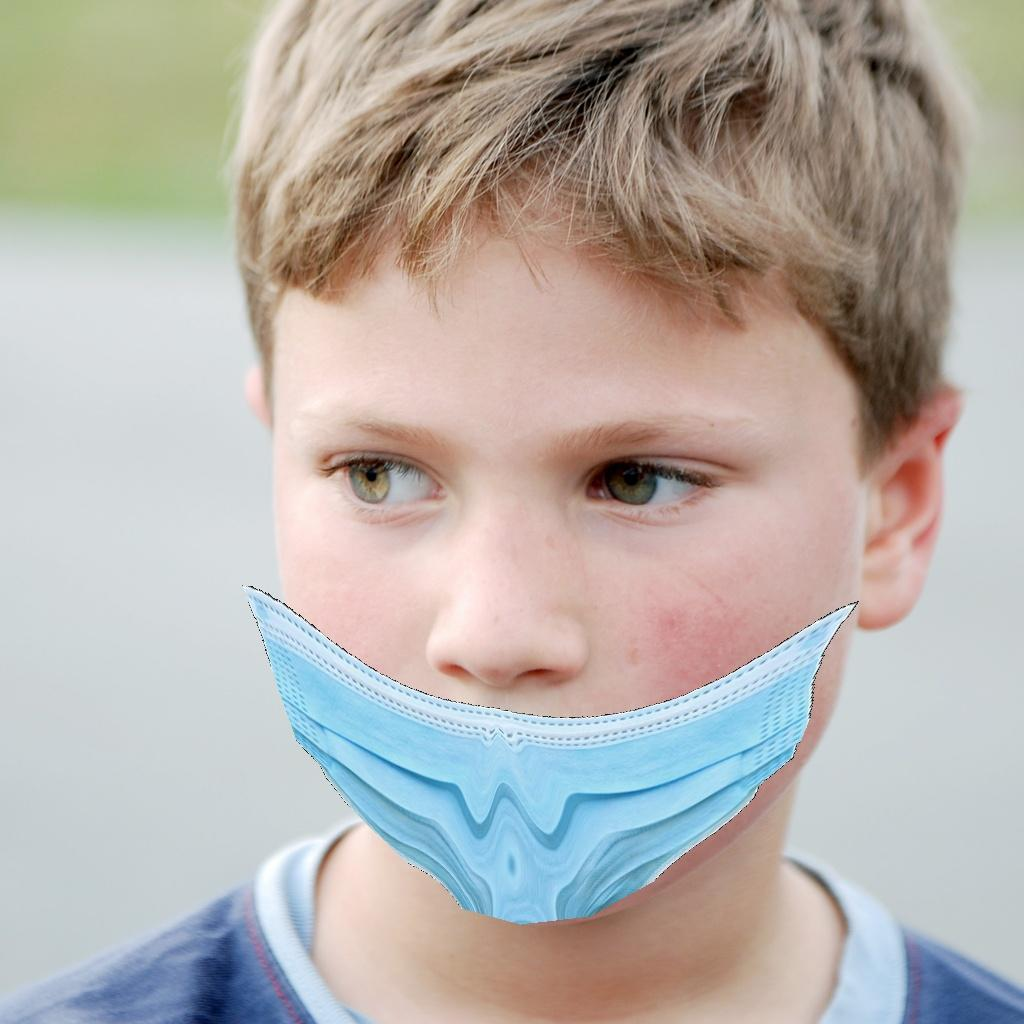Máscara Incorreta: (246, 223, 864, 931)
